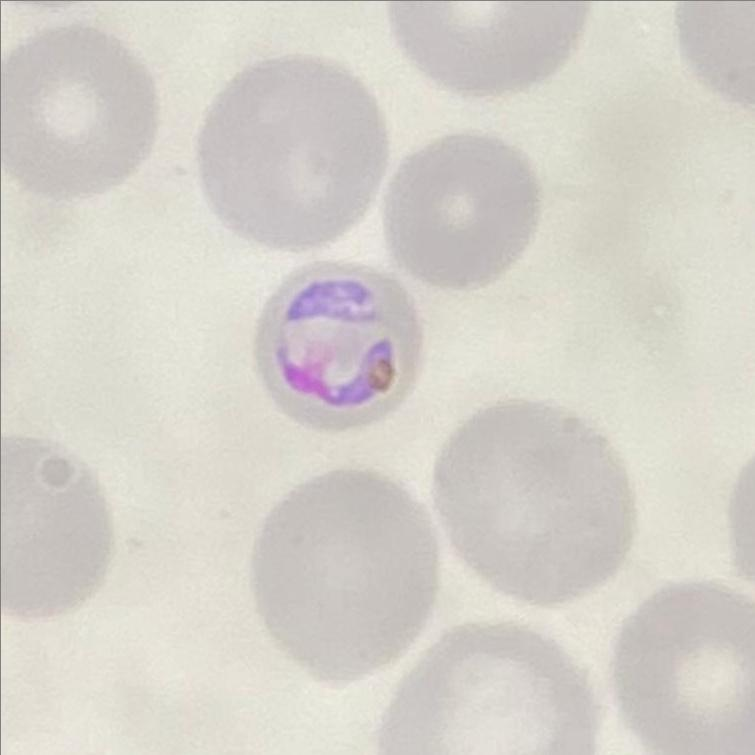Infected: (256, 255, 421, 435)
Uninfected: (253, 469, 442, 684), (450, 396, 636, 607), (200, 62, 388, 248), (383, 619, 596, 755), (4, 29, 160, 196), (617, 583, 755, 755), (385, 135, 537, 286), (0, 436, 115, 622), (383, 0, 584, 103)
